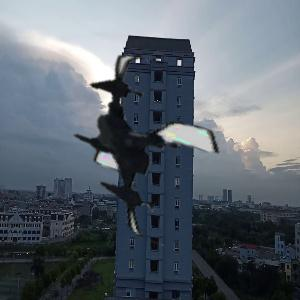drone: (52, 58, 228, 234)
